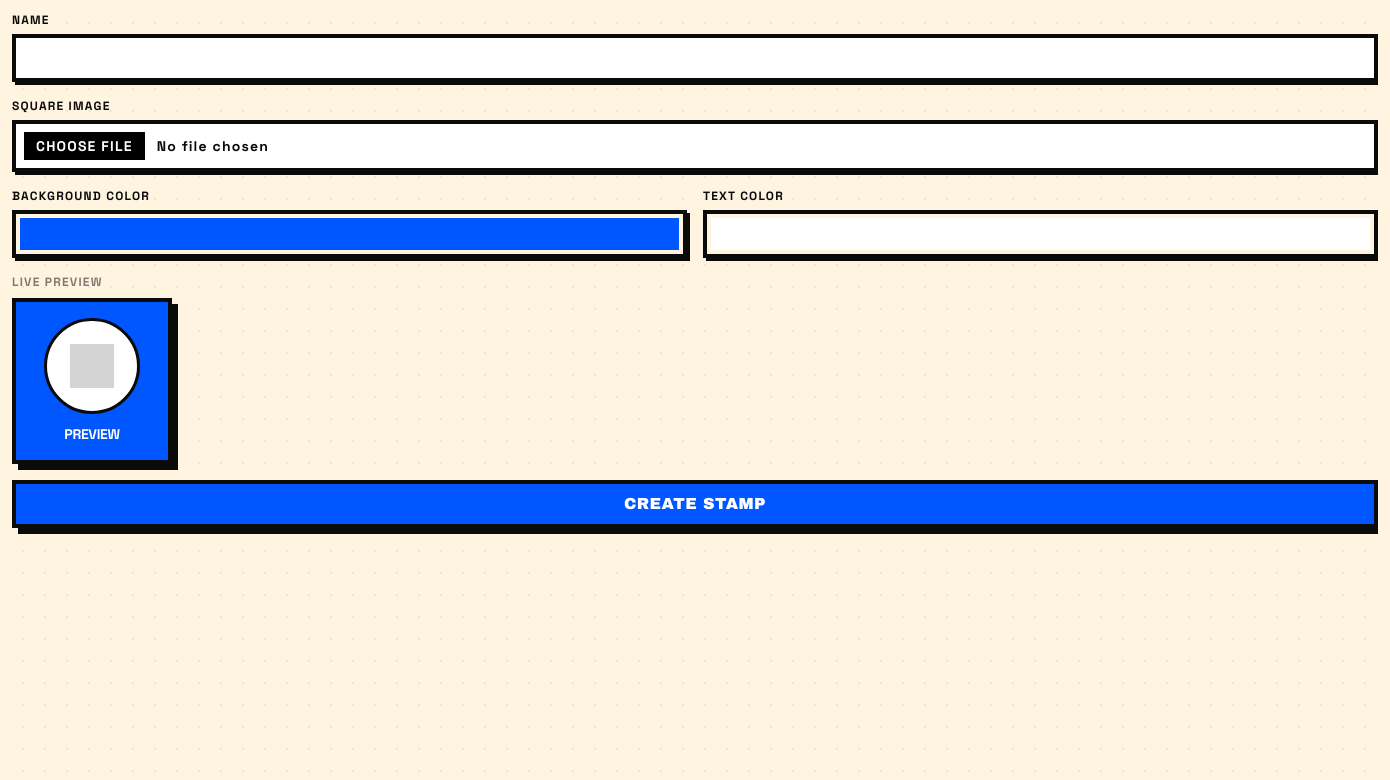
Test: StampForm color pickers and preview › typing a name updates the preview name text
Type "My Stamp" into the field labelled "Name" at (695, 58), box left=12, top=34, right=1378, bottom=82
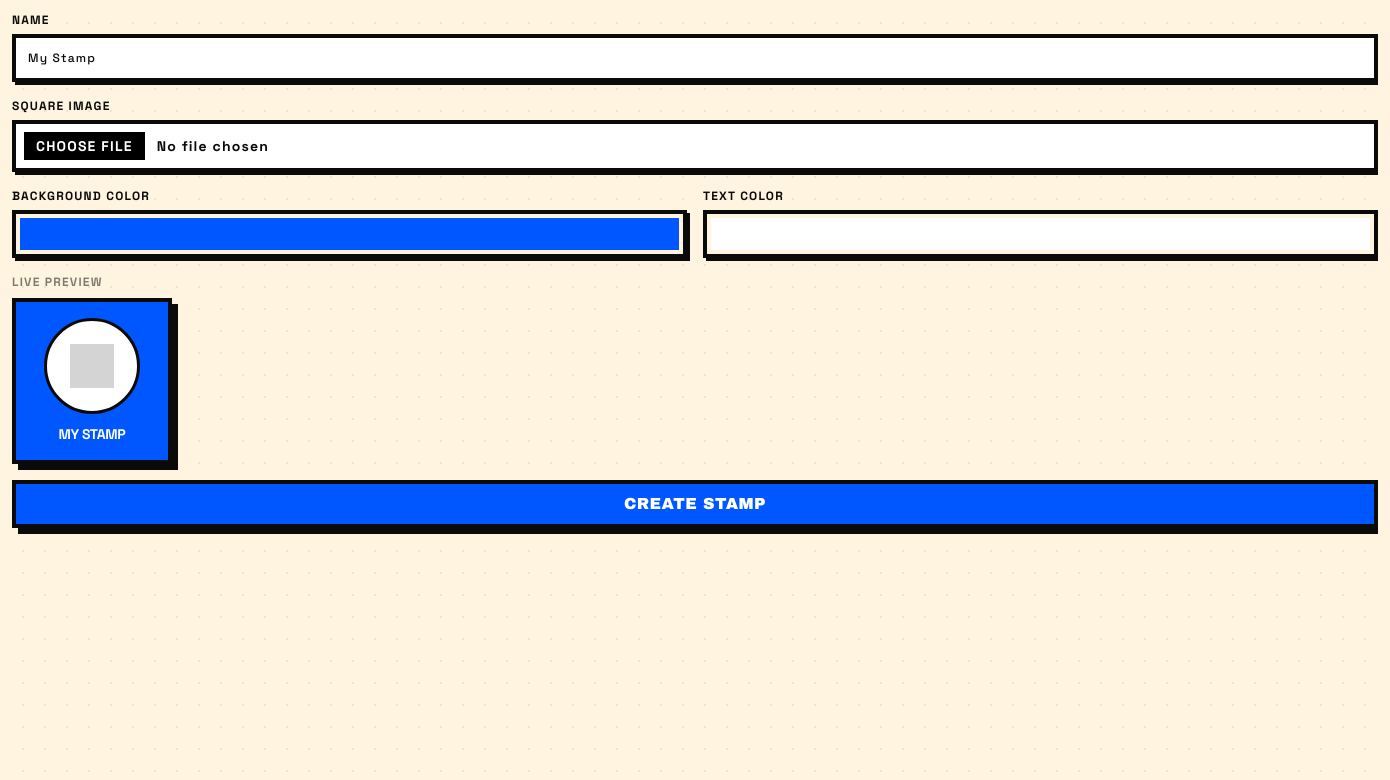
Now the element with test id "stamp-card" reads "My Stamp", box left=58, top=425, right=125, bottom=443
